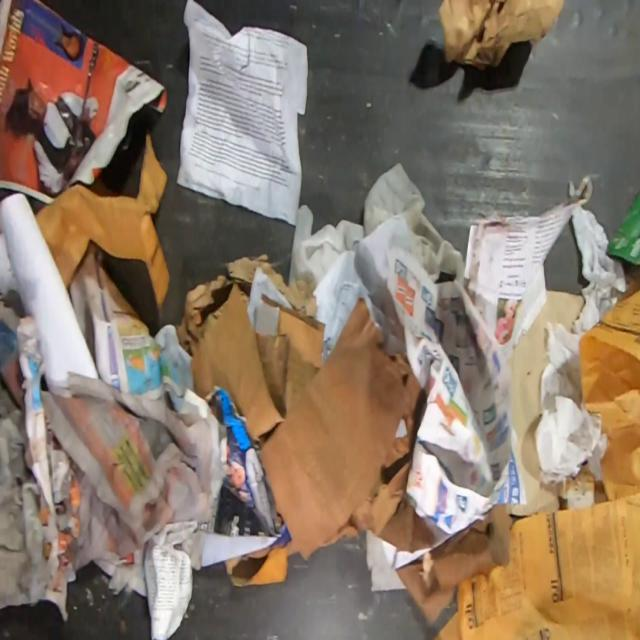cardboard: (260, 298, 438, 562), (190, 266, 326, 444), (506, 289, 586, 516), (394, 504, 519, 627), (438, 0, 566, 73), (604, 184, 639, 267)
